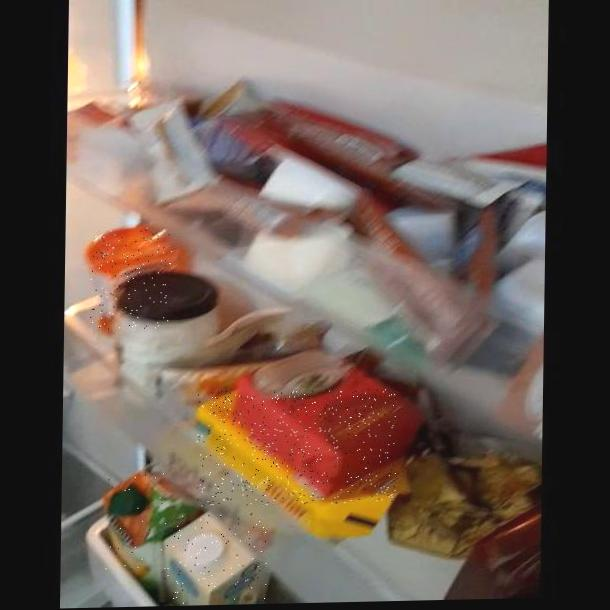butter: (196, 387, 398, 506)
juice: (106, 473, 166, 571)
milk: (164, 513, 268, 606)
sauce: (89, 227, 172, 330)
